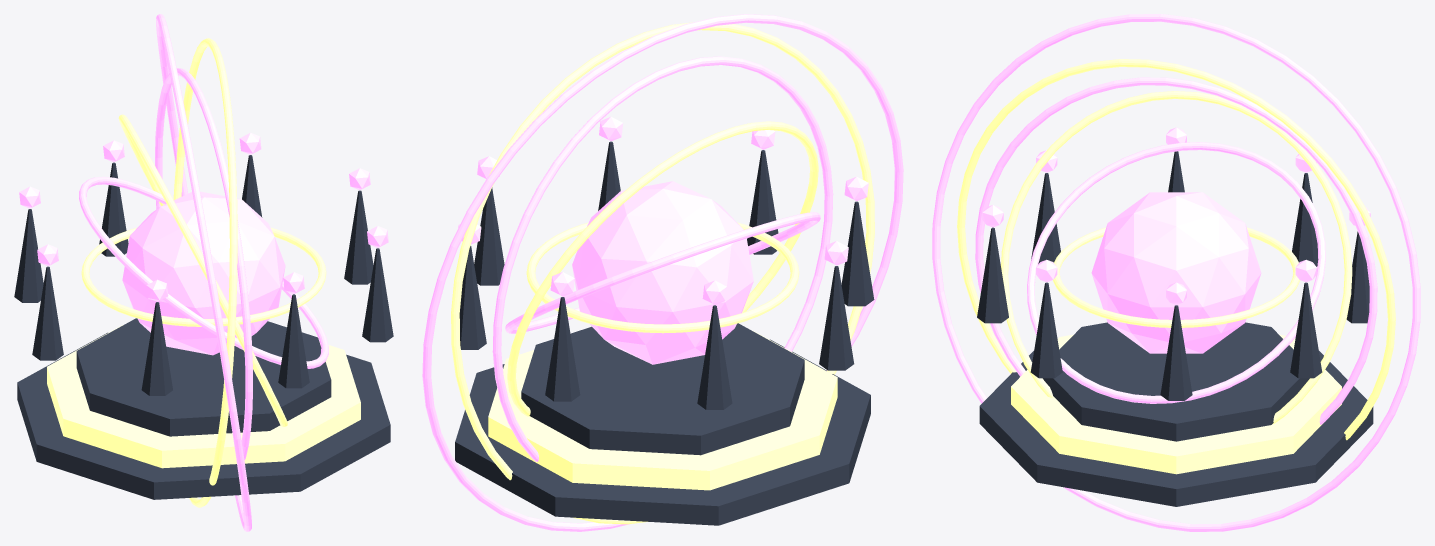
The model's file is gpu-blender-v11.glb.
3 renders of one model, left to right at view 1: azimuth 30°, elevation 25°; view 2: azimuth 150°, elevation 25°; view 3: azimuth 270°, elevation 25°, orthographic. The views are drawn at different scales.
Visible parts, largest first — view 1: Cylinder.002, Cylinder, SovereignCore_mcp-lens, Cylinder.001, Torus.005, Torus.004, Torus.003, Torus.001, Torus, Torus.002, Cone.007, Cone.006 (+6 smaller); view 2: Cylinder.002, SovereignCore_mcp-lens, Cylinder, Cylinder.001, Torus.005, Torus.004, Torus.003, Torus.002, Torus.001, Torus, Cone.004, Cone.002 (+6 smaller); view 3: SovereignCore_mcp-lens, Cylinder.002, Cylinder, Cylinder.001, Torus.005, Torus.004, Torus.003, Torus.002, Torus.001, Torus, Cone.001, Cone.007 (+5 smaller).
Part boxes in pixels (<box>): Cylinder.002: <box>76,318,331,436</box>; Cylinder: <box>17,332,390,499</box>; SovereignCore_mcp-lens: <box>122,191,285,355</box>; Cylinder.001: <box>47,325,360,468</box>; Torus.005: <box>156,14,251,531</box>; Torus.004: <box>173,38,237,507</box>; Torus.003: <box>155,68,252,459</box>; Torus.001: <box>79,176,328,368</box>; Torus: <box>81,227,326,326</box>; Torus.002: <box>118,114,287,426</box>; Cone.007: <box>362,248,393,342</box>; Cone.006: <box>278,294,309,388</box>; Cylinder.002: <box>521,323,804,455</box>; SovereignCore_mcp-lens: <box>572,181,753,364</box>; Cylinder: <box>455,339,870,525</box>; Cylinder.001: <box>488,330,837,490</box>; Torus.005: <box>422,14,903,531</box>; Torus.004: <box>451,22,874,524</box>; Torus.003: <box>492,56,833,461</box>; Torus.002: <box>507,121,818,416</box>; Torus.001: <box>505,212,820,333</box>; Torus: <box>526,222,799,333</box>; Cone.004: <box>819,266,854,370</box>; Cone.002: <box>545,297,580,401</box>; SovereignCore_mcp-lens: <box>1091,192,1261,353</box>; Cylinder.002: <box>1043,322,1309,441</box>; Cylinder: <box>979,351,1373,506</box>; Cylinder.001: <box>1011,334,1341,474</box>; Torus.005: <box>932,14,1420,531</box>; Torus.004: <box>957,59,1395,440</box>; Torus.003: <box>975,77,1377,424</box>; Torus.002: <box>1001,91,1352,423</box>; Torus.001: <box>1027,142,1325,403</box>; Torus: <box>1053,227,1299,327</box>; Cone.001: <box>1290,282,1322,378</box>; Cone.007: <box>1030,282,1062,378</box>.
Bounding box in the file's own units: 4.41 × 5.93 × 5.46.
